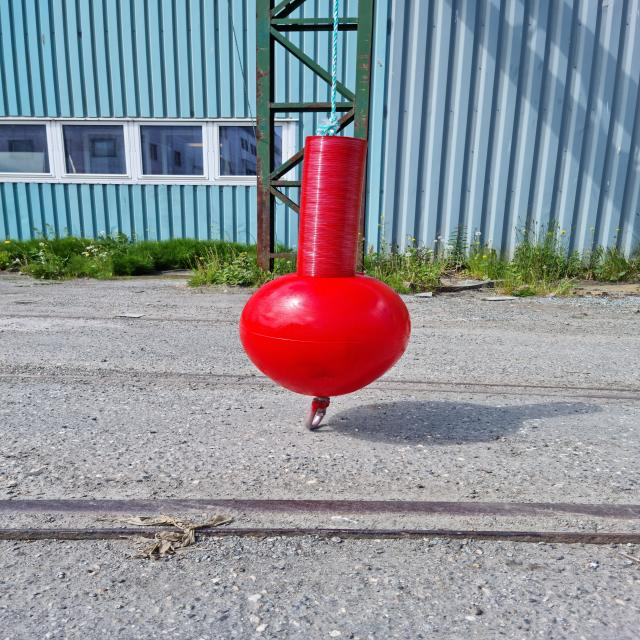red: (240, 136, 411, 396)
